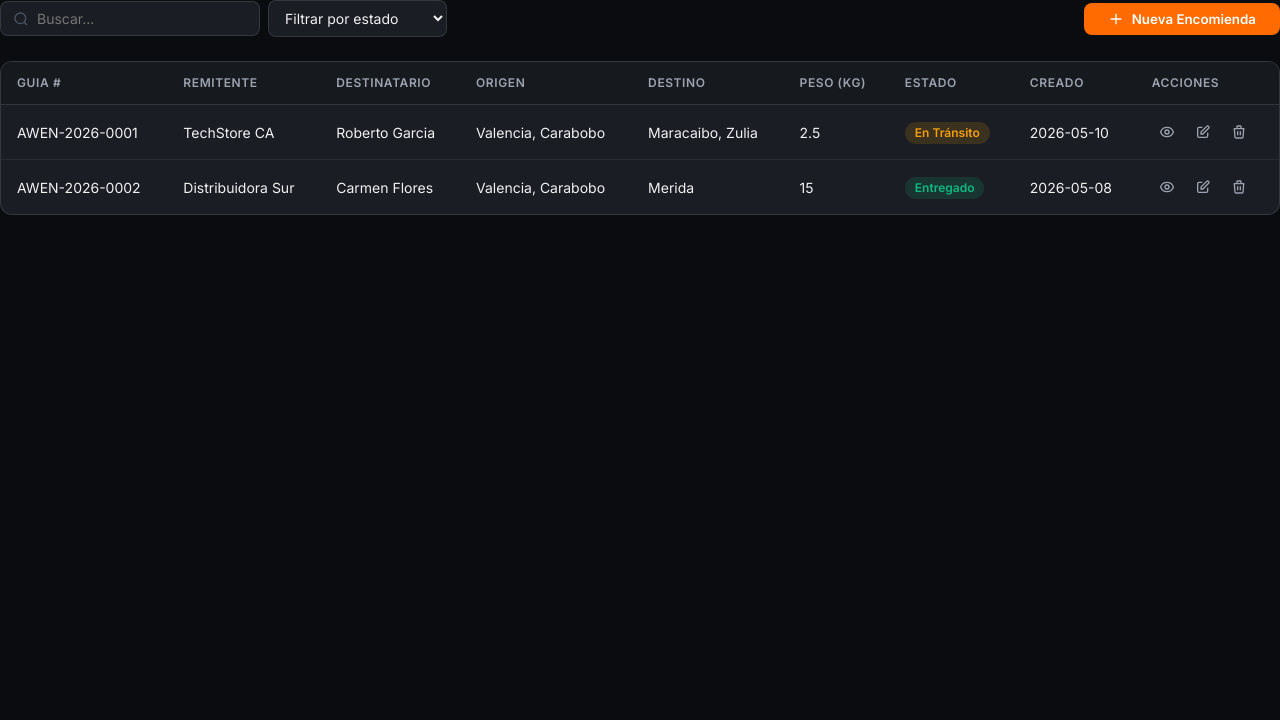
Scenario: ParcelManagement › muestra error si falla la actualizacion
expect the text "AWEN-2026-0001" is shown: met, box [1, 104, 167, 160]
Click the button titled "Editar" in the row of "AWEN-2026-0001".
click(1203, 132)  # box [1188, 117, 1218, 147]
(page scrolled)
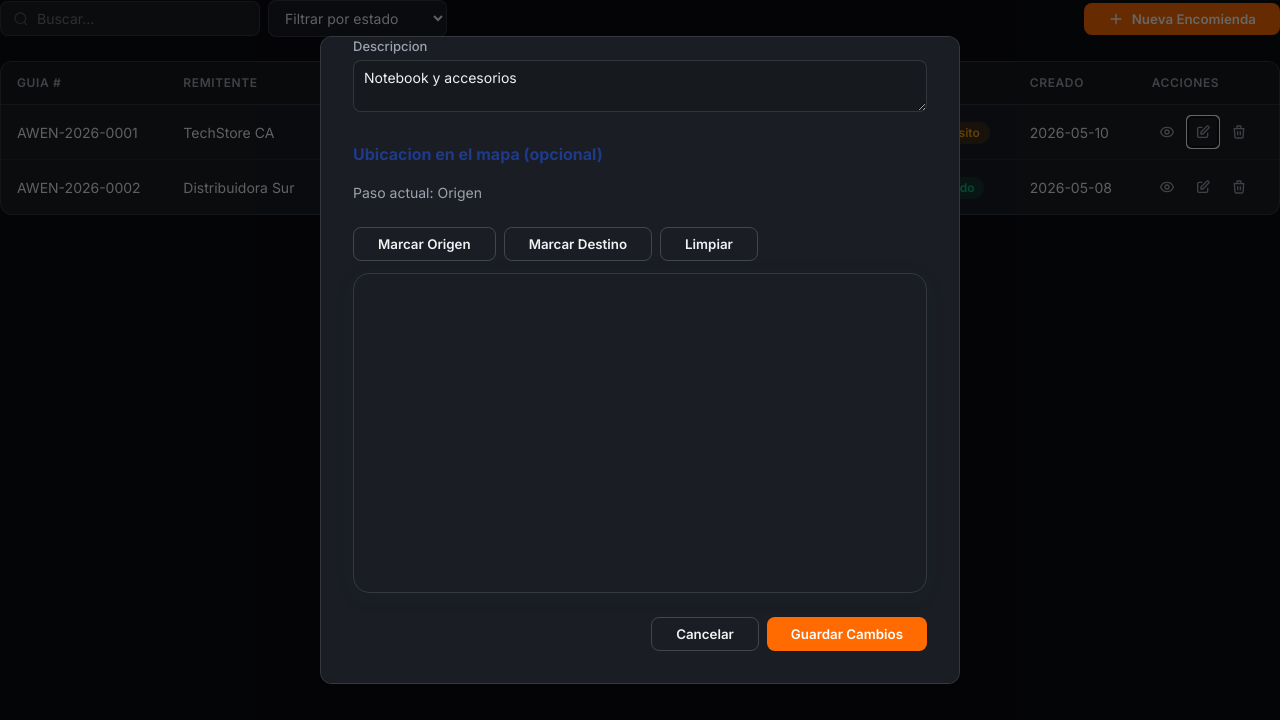
Click the button "Guardar Cambios".
click(847, 634)  # box [767, 617, 927, 651]
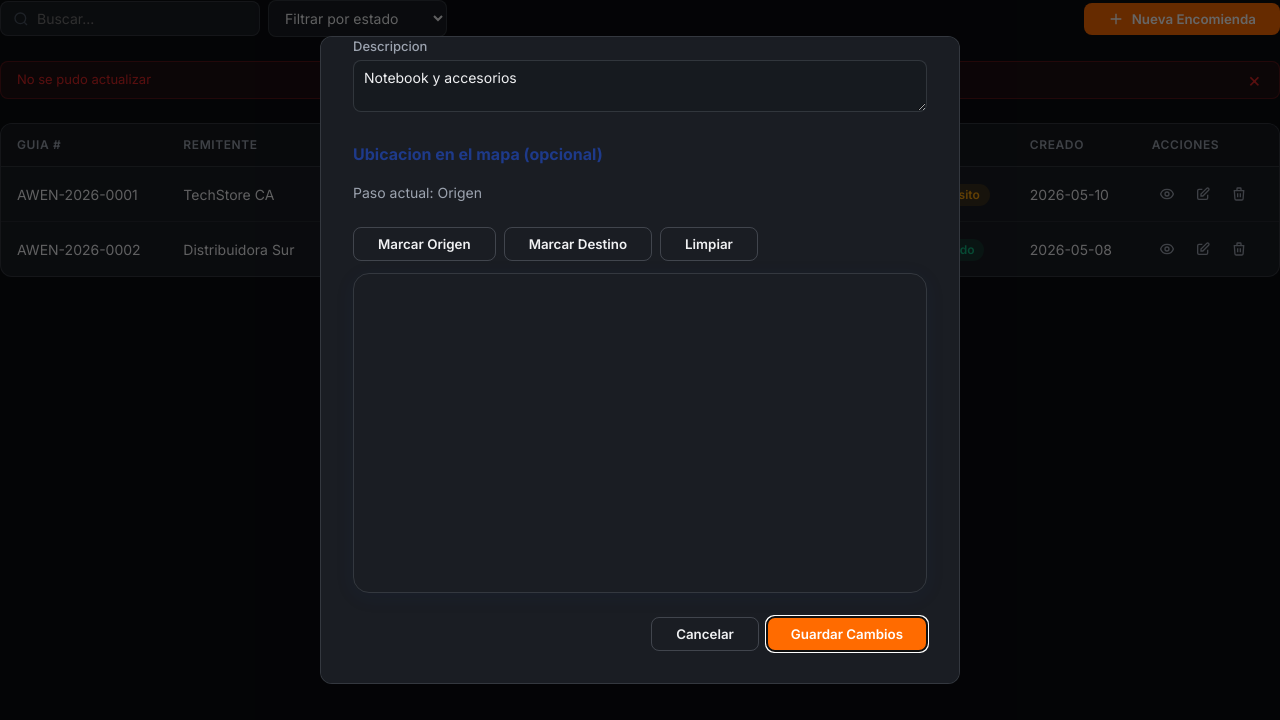
expect the text "No se pudo actualizar" is shown: met, box [17, 70, 151, 90]
